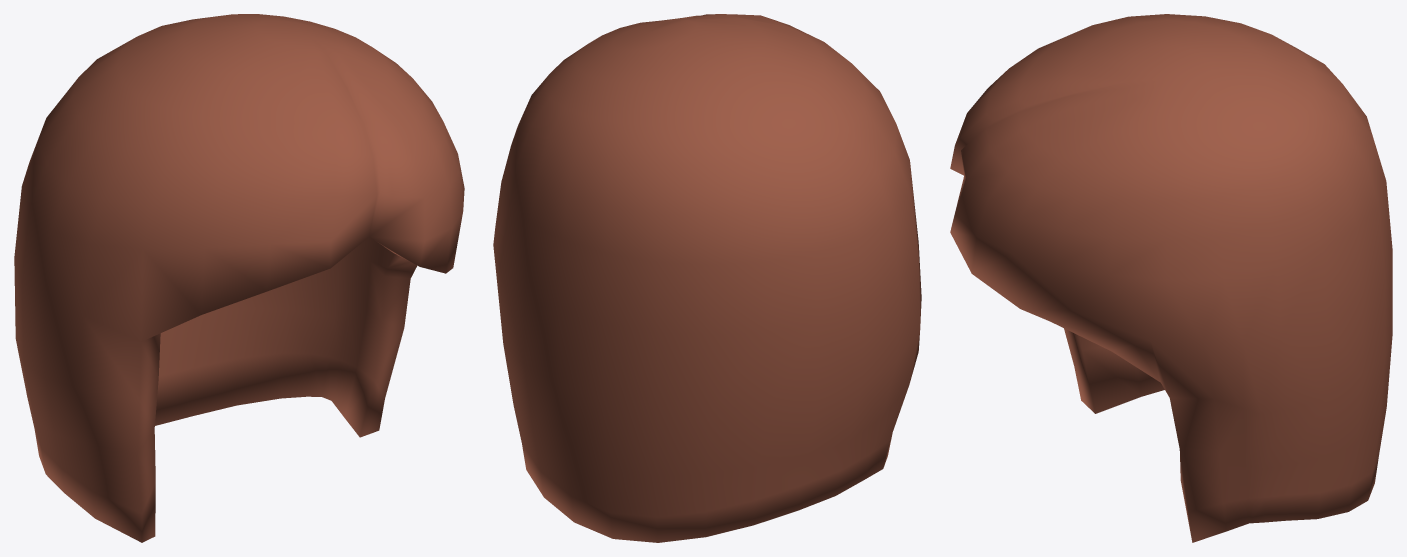
Rendered from hair_rogue.gltf.
3 renders of one model, left to right at view 1: azimuth 30°, elevation 25°; view 2: azimuth 150°, elevation 25°; view 3: azimuth 270°, elevation 25°, orthographic. The views are drawn at different scales.
Parts seen in each view (by area): view 1: hair_rogue; view 2: hair_rogue; view 3: hair_rogue.
Boxes of the visible parts, <box> form: hair_rogue: <box>14,14,464,542</box>; hair_rogue: <box>493,14,921,542</box>; hair_rogue: <box>950,14,1392,542</box>.
Size of the model in its own units: 1.12 by 1.22 by 1.09.
